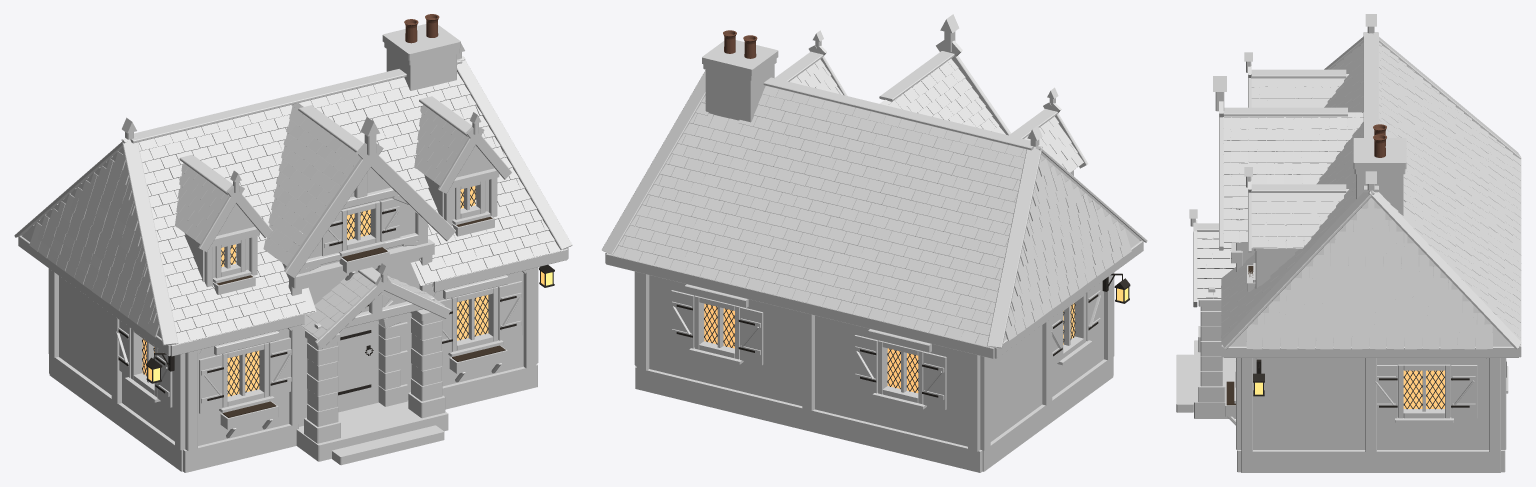
The model's file is SilverbrookCottage6.glb.
3 views of the same model, side by side, from view 1: azimuth 30°, elevation 25°; view 2: azimuth 150°, elevation 25°; view 3: azimuth 270°, elevation 25° (orthographic). The views are drawn at different scales.
Parts seen in each view (by area): view 1: SM_SBCottage6_Roof, SM_SBCottage6_Timber, SM_SBCottage6_Masonry, SM_SBCottage6_Details, SM_SBCottage6_Plaster, SM_SBCottage6_Details_Door1; view 2: SM_SBCottage6_Roof, SM_SBCottage6_Masonry, SM_SBCottage6_Timber, SM_SBCottage6_Details; view 3: SM_SBCottage6_Roof, SM_SBCottage6_Masonry, SM_SBCottage6_Timber, SM_SBCottage6_Details, SM_SBCottage6_Plaster.
Part boxes in pixels (bbox=[...]): SM_SBCottage6_Roof: bbox=[14, 56, 572, 345]; SM_SBCottage6_Timber: bbox=[18, 43, 568, 450]; SM_SBCottage6_Masonry: bbox=[49, 24, 537, 472]; SM_SBCottage6_Details: bbox=[116, 14, 554, 417]; SM_SBCottage6_Plaster: bbox=[185, 145, 493, 289]; SM_SBCottage6_Details_Door1: bbox=[338, 308, 378, 412]; SM_SBCottage6_Roof: bbox=[601, 51, 1147, 348]; SM_SBCottage6_Masonry: bbox=[635, 40, 1113, 472]; SM_SBCottage6_Timber: bbox=[605, 14, 1143, 451]; SM_SBCottage6_Details: bbox=[671, 30, 1130, 409]; SM_SBCottage6_Roof: bbox=[1197, 32, 1521, 349]; SM_SBCottage6_Masonry: bbox=[1176, 138, 1505, 472]; SM_SBCottage6_Timber: bbox=[1189, 14, 1521, 451]; SM_SBCottage6_Details: bbox=[1226, 124, 1506, 418]; SM_SBCottage6_Plaster: bbox=[1241, 240, 1304, 285].
Bounding box in the file's own units: 7.86 × 5.96 × 5.85.
